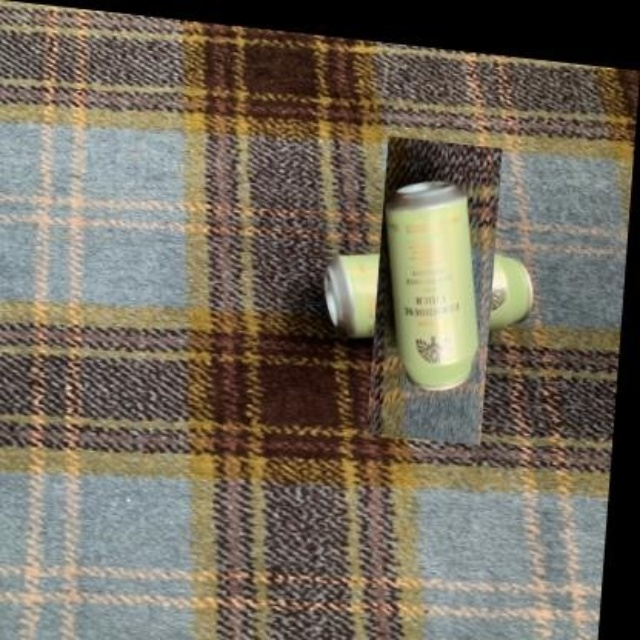trash: (386, 182, 477, 389), (325, 254, 378, 337)
